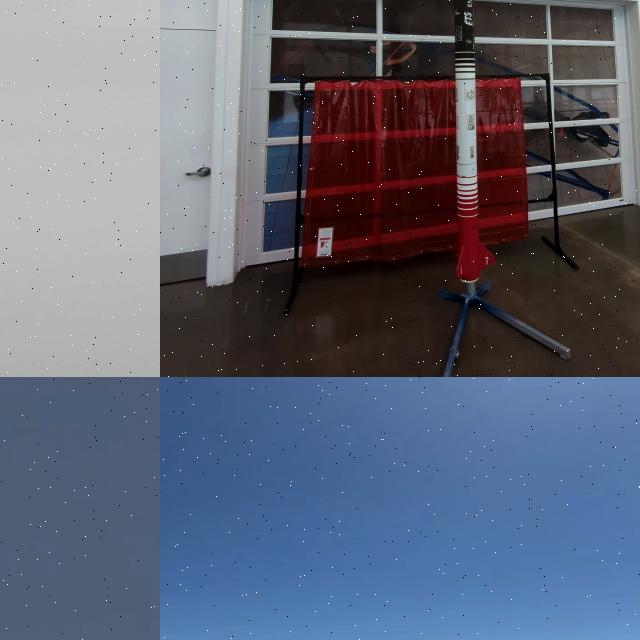Rocket: (454, 0, 495, 283)
